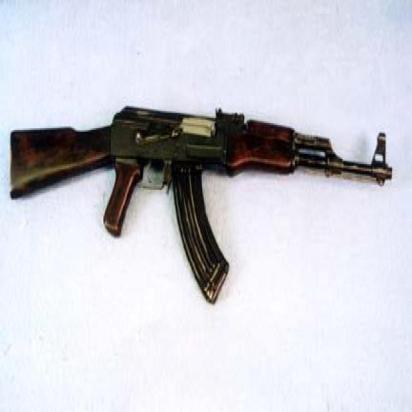Gun: (8, 104, 392, 307)
